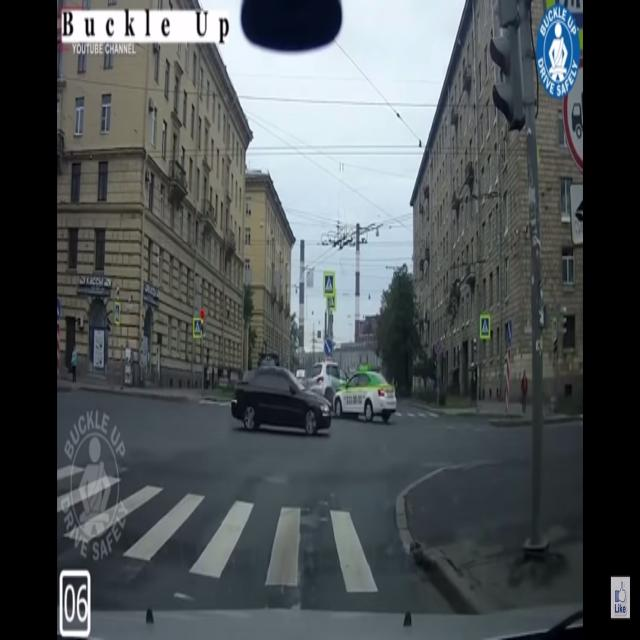accident: (305, 355, 399, 422)
